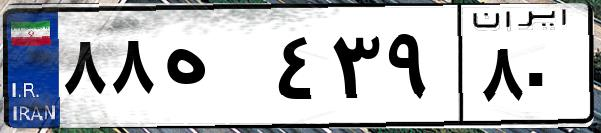0: (525, 38, 570, 115)
3: (330, 28, 385, 110)
4: (270, 28, 330, 110)
8: (57, 26, 110, 100), (475, 38, 525, 113), (110, 28, 158, 98)
9: (385, 28, 445, 110)
ه: (158, 20, 270, 120)
